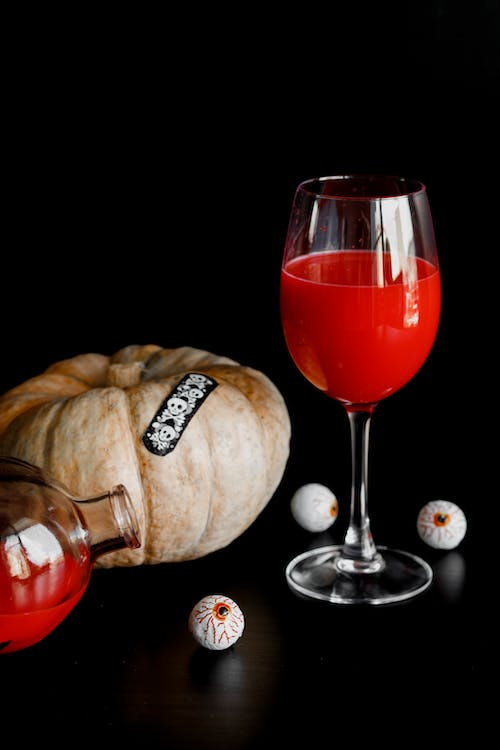blood: (278, 248, 442, 407), (0, 532, 94, 654)
